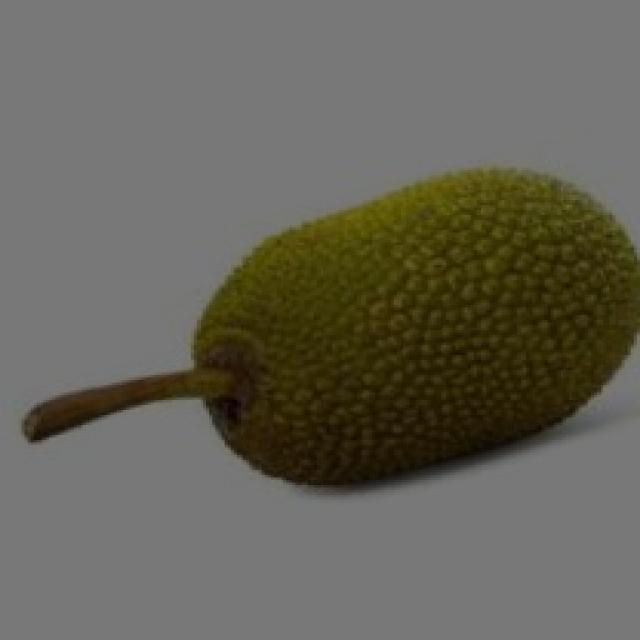Fruit: (221, 142, 640, 509)
